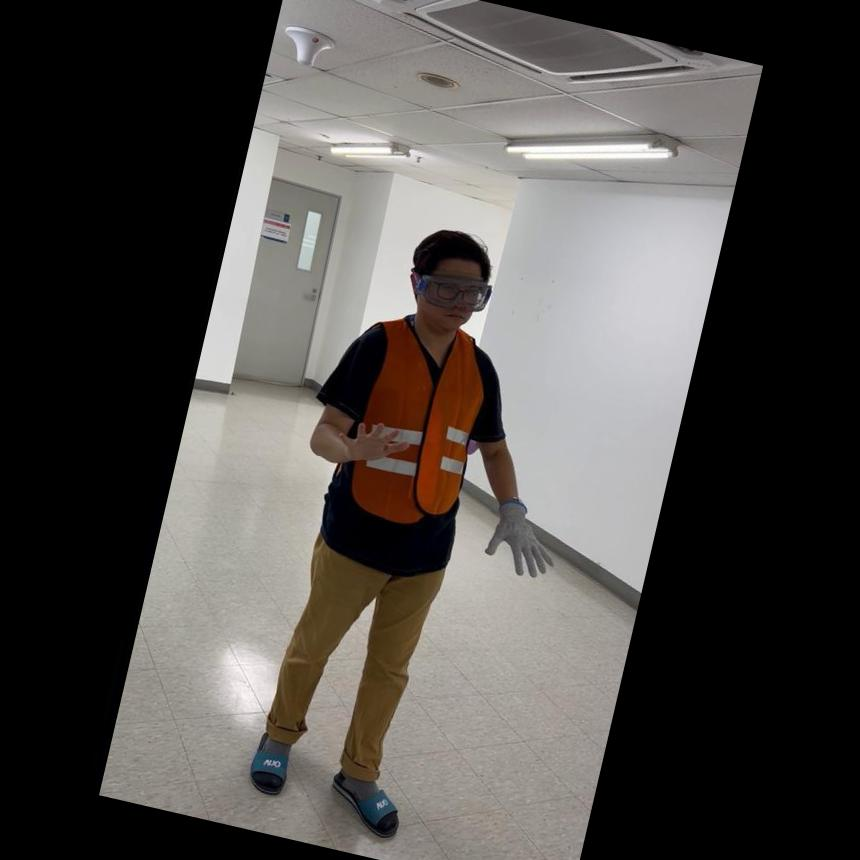Gloves: (476, 489, 564, 582)
No-gloves: (334, 406, 412, 474)
